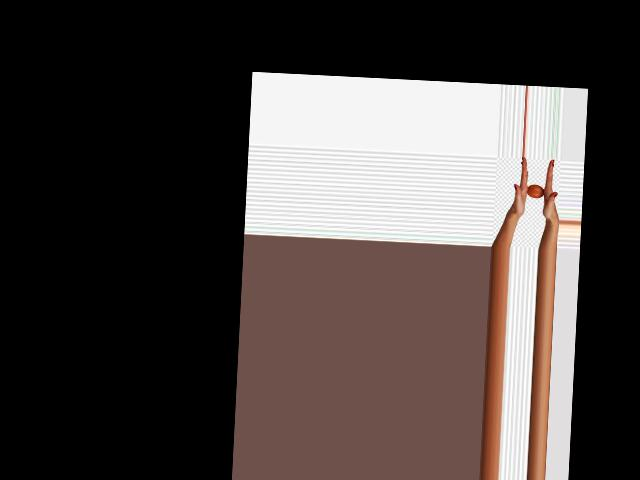egg: (526, 184, 543, 198)
